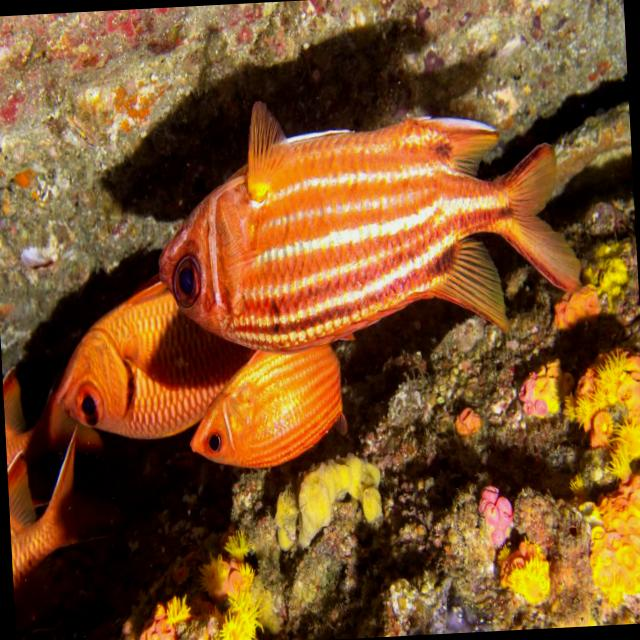Asker Baligi: (148, 84, 588, 364), (46, 276, 241, 444), (192, 348, 378, 478)
